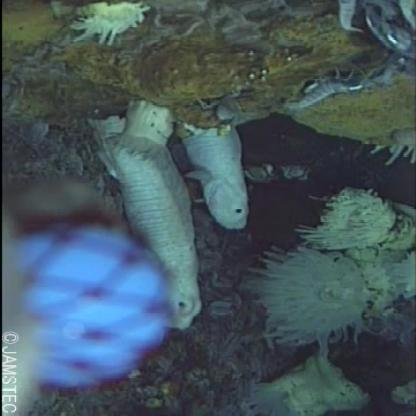Bio: (96, 104, 202, 334), (244, 240, 374, 374), (178, 118, 252, 235), (272, 59, 378, 112)
